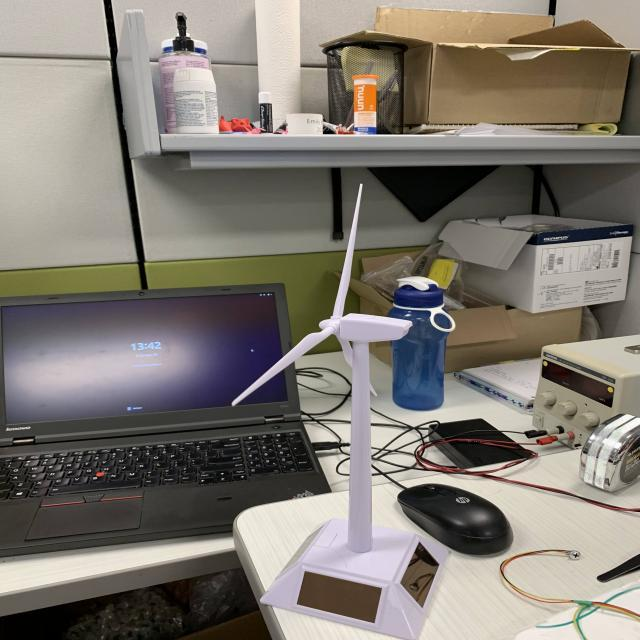solid-blade: (231, 326, 335, 406), (331, 184, 362, 319)
